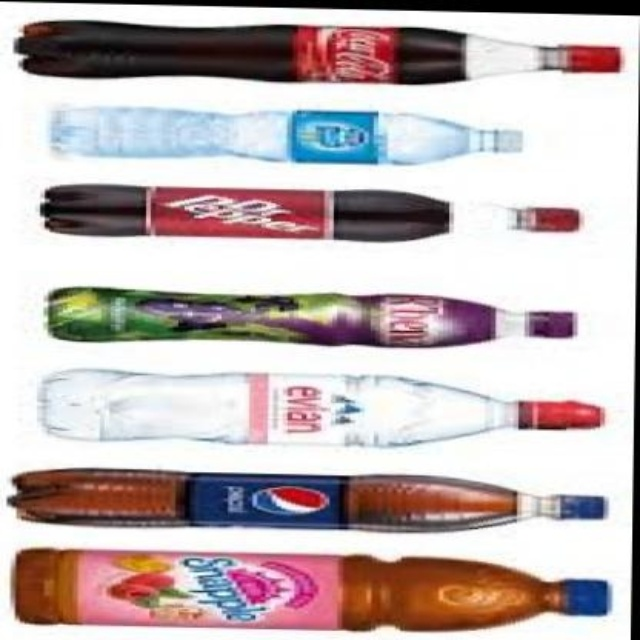trash: (15, 549, 608, 629), (40, 369, 603, 445), (15, 20, 620, 83), (9, 469, 605, 529), (48, 288, 574, 346), (42, 185, 449, 240), (49, 106, 291, 160), (375, 114, 522, 163)
